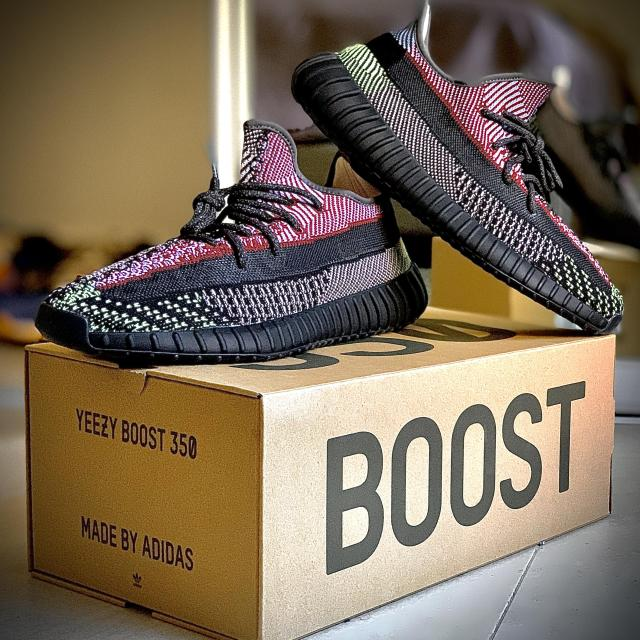shoe: (283, 0, 636, 340), (30, 110, 434, 380)
